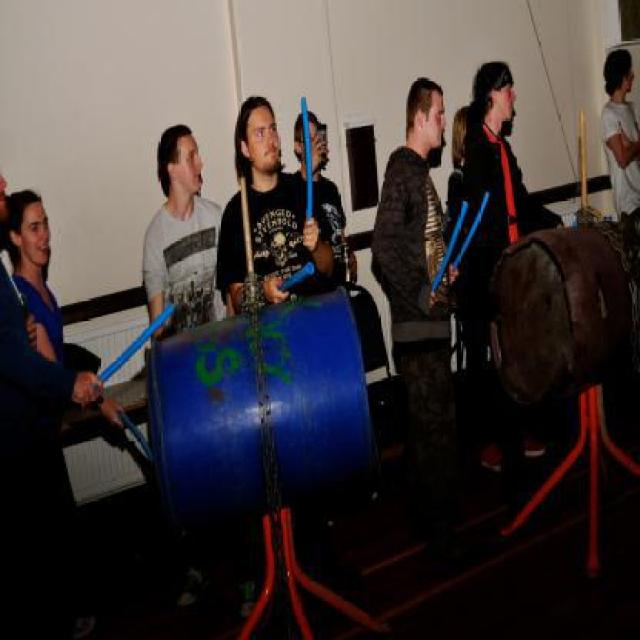Person: (143, 63, 566, 619), (143, 123, 260, 615), (369, 77, 456, 566), (466, 57, 566, 475), (0, 170, 102, 496), (10, 188, 125, 428), (216, 94, 335, 303), (597, 46, 638, 289)
